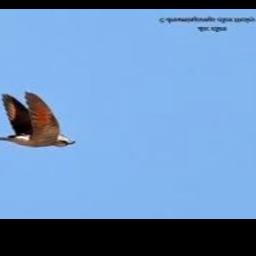Cuckoo: (0, 94, 74, 149)
